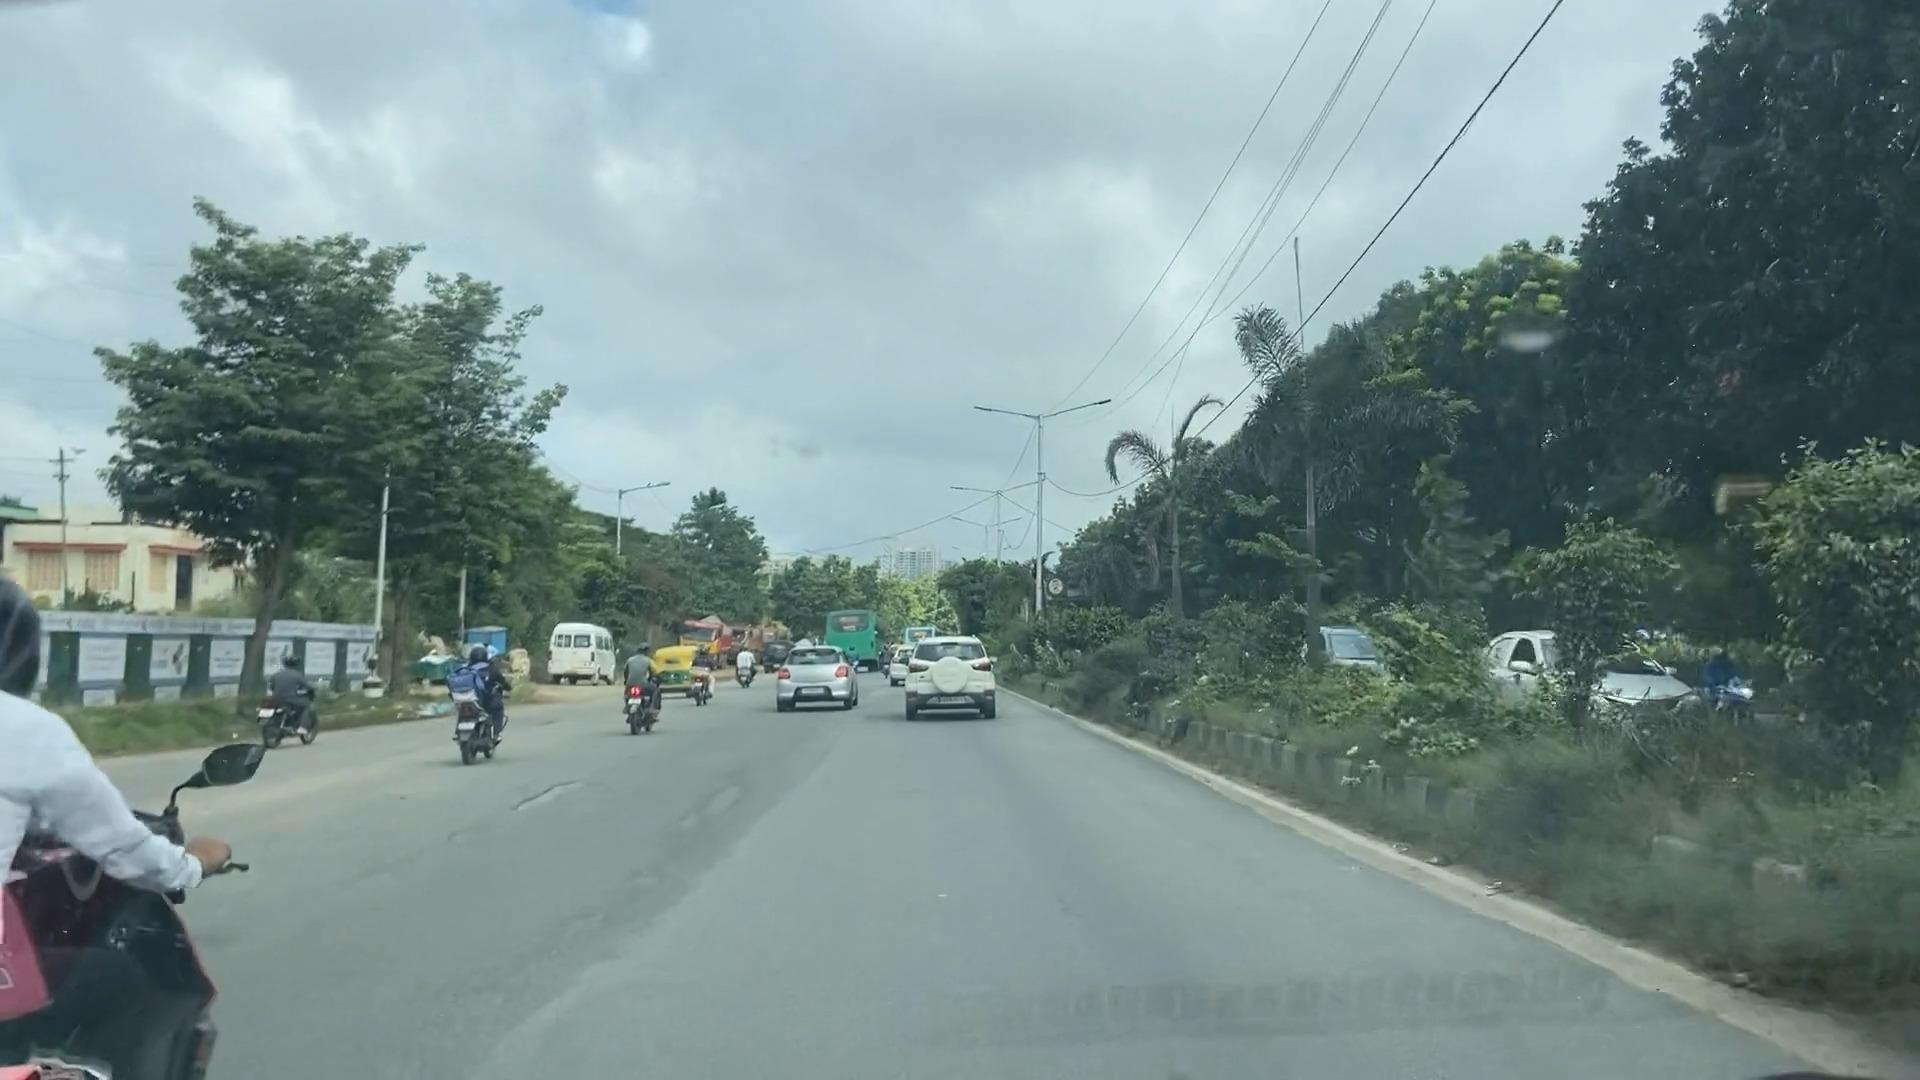HMV: (545, 611, 620, 695)
LMV: (890, 609, 1010, 723), (447, 624, 533, 773), (753, 613, 862, 724), (258, 644, 335, 760), (621, 638, 675, 744)
RoadDamages: (471, 767, 646, 843)
